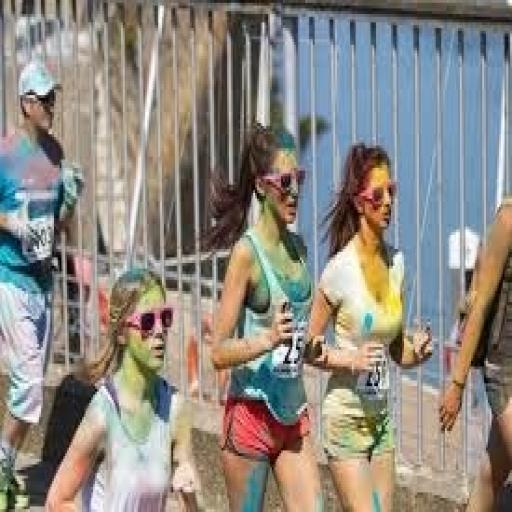running: (302, 140, 436, 509), (203, 118, 326, 509), (0, 56, 86, 509), (43, 263, 201, 509), (436, 193, 510, 509)
